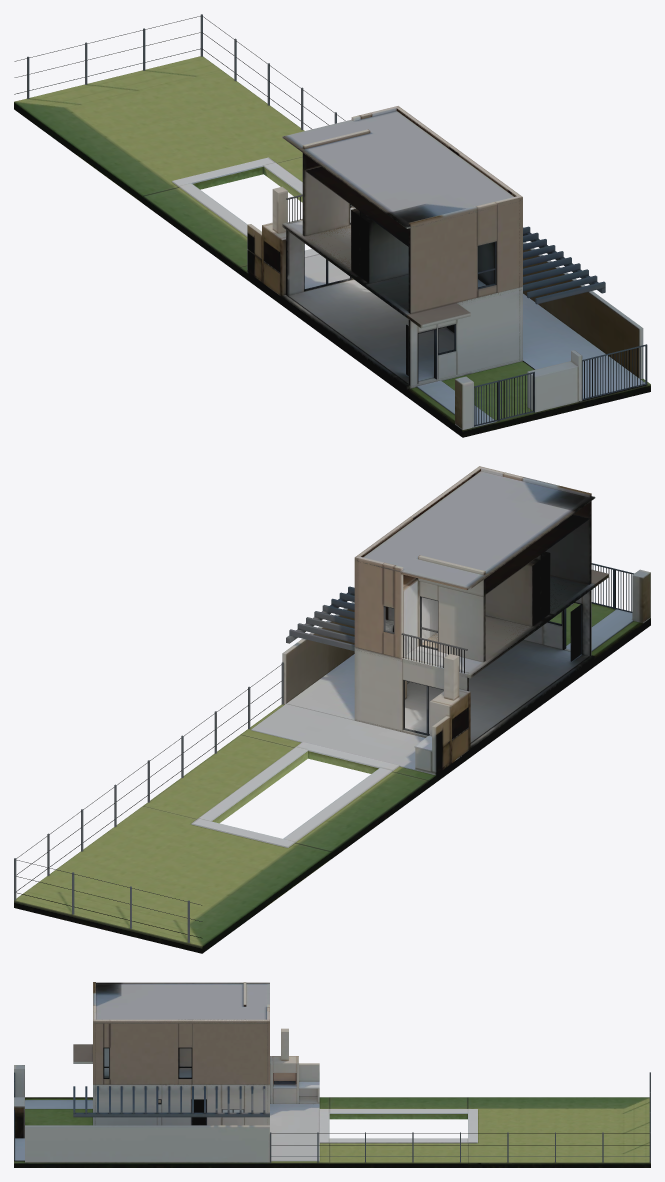
Rendered from contexto.glb.
3 views of the same model, one above another, from view 1: azimuth 30°, elevation 25°; view 2: azimuth 150°, elevation 25°; view 3: azimuth 270°, elevation 25° (orthographic). The views are drawn at different scales.
Parts seen in each view (by area): view 1: B_Contexto; view 2: B_Contexto; view 3: B_Contexto.
Boxes of the visible parts, bbox=[...] form: B_Contexto: bbox=[14, 14, 650, 437]; B_Contexto: bbox=[14, 466, 650, 953]; B_Contexto: bbox=[14, 982, 650, 1167].
Size of the model in its own units: 7.8 by 6.8 by 32.2.
Materials: 1 (1 with a texture image).
